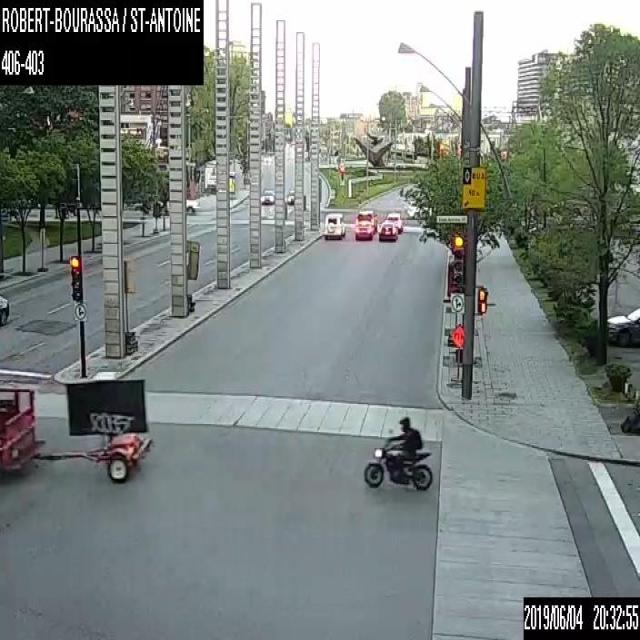construction: (122, 257, 138, 354), (185, 239, 200, 311)
vehicle: (0, 376, 152, 483), (363, 416, 432, 491), (607, 306, 639, 344), (165, 196, 198, 215), (324, 211, 346, 239), (354, 208, 377, 230), (406, 199, 432, 218), (378, 220, 397, 241), (385, 211, 403, 233), (354, 220, 373, 239), (0, 294, 9, 326), (260, 187, 274, 204), (286, 190, 294, 204)
